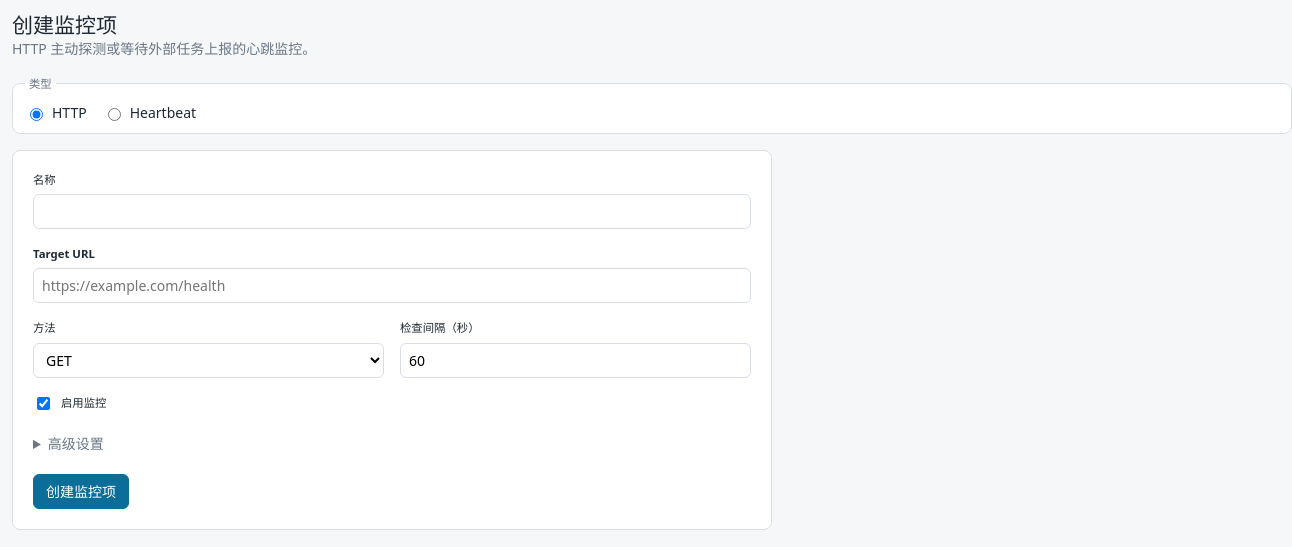
Test: MonitorCreateView › creates a heartbeat monitor and shows its one-time token and command
The width and height of the screenshot is (1292, 547).
Click the radio button labelled "Heartbeat".
click(114, 114)  # box [108, 108, 121, 121]
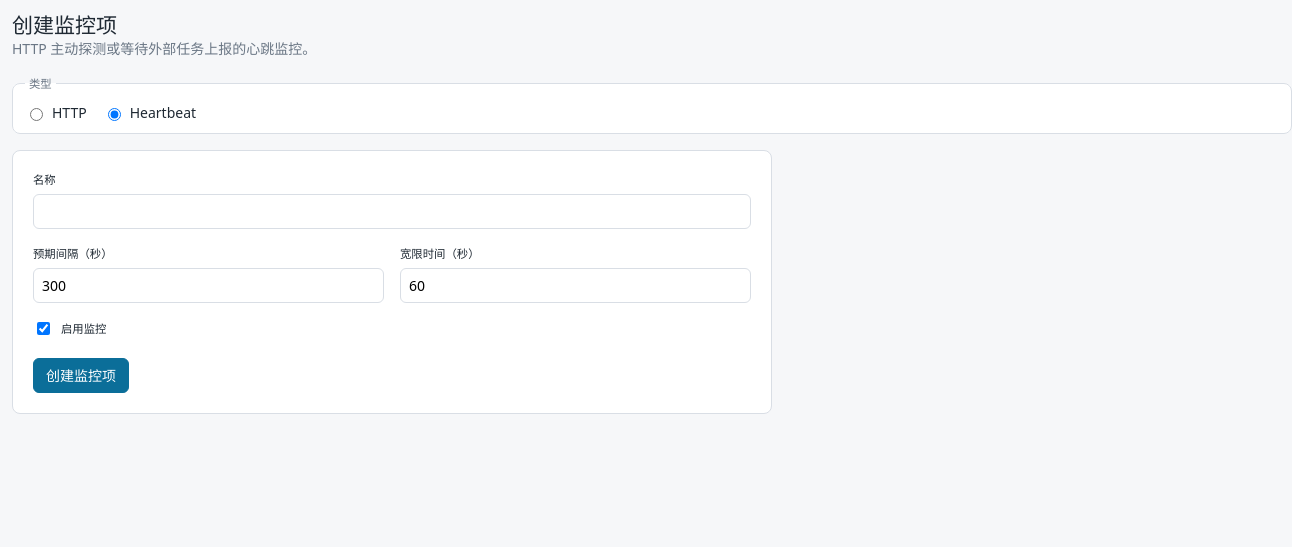
Type "Nightly job" into the field with id "heartbeat-name".
click(392, 212); type("Nightly job")  # box [33, 194, 751, 229]
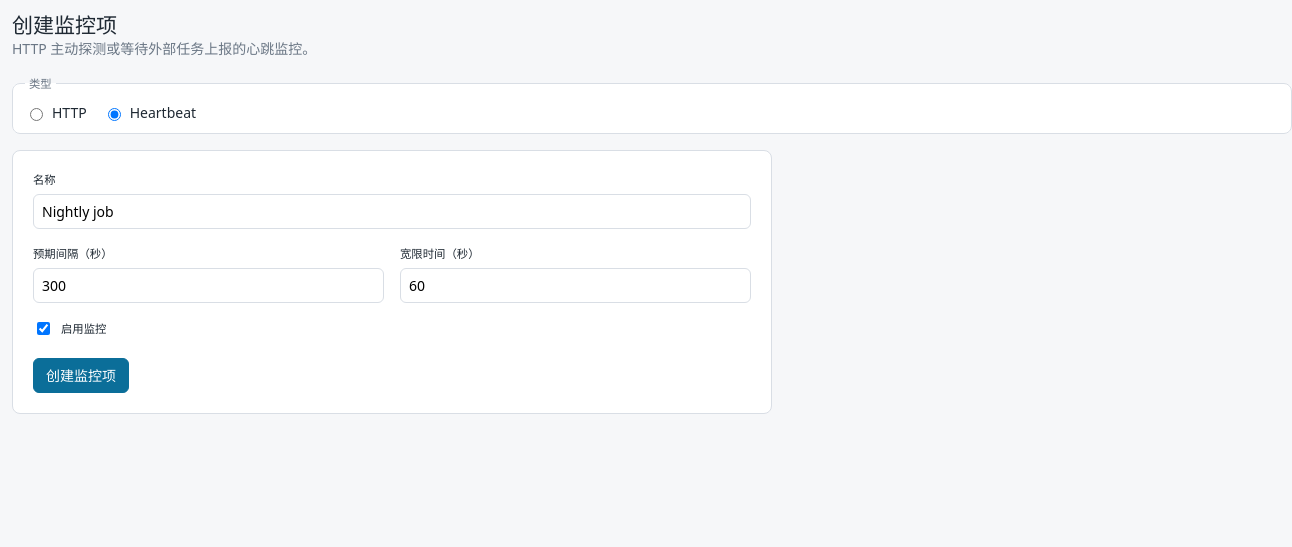
Submit the form, box [12, 150, 772, 414]
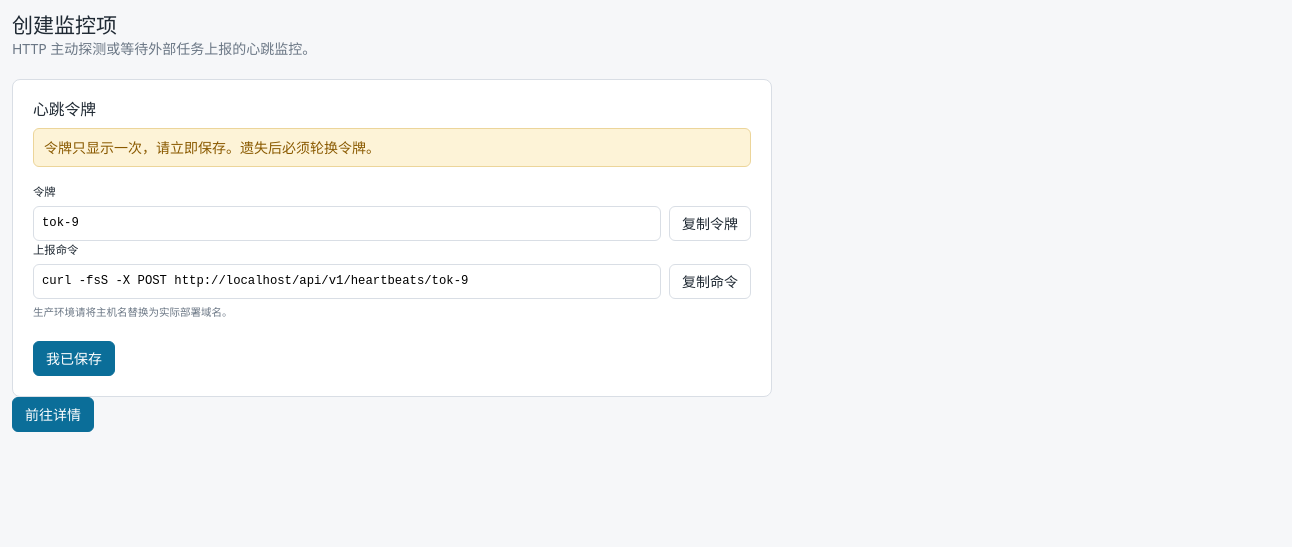
Now the field with id "heartbeat-token" holds "tok-9", box [33, 206, 661, 241]
Now the text "只显示一次" is shown, box [44, 138, 380, 157]
Now the link to "/monitors/9" is shown, box [12, 397, 94, 432]
